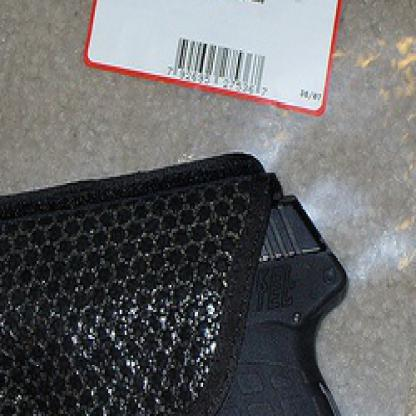gun: (0, 166, 383, 414)
